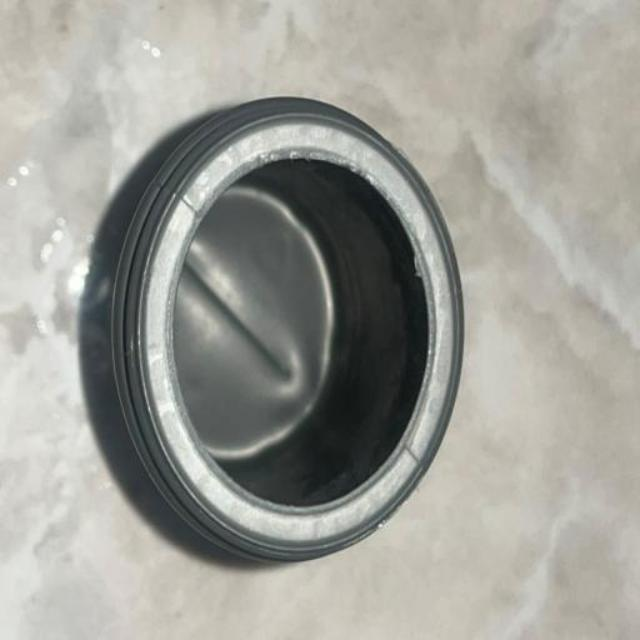HDPE: (57, 22, 526, 552)
